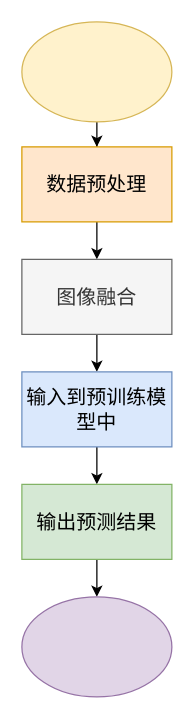
This 194x719 diagram has some shape labels left out. The centre of each missing label's shape, as x and y in pixels:
开始: (x=96, y=71)
结束: (x=96, y=646)
